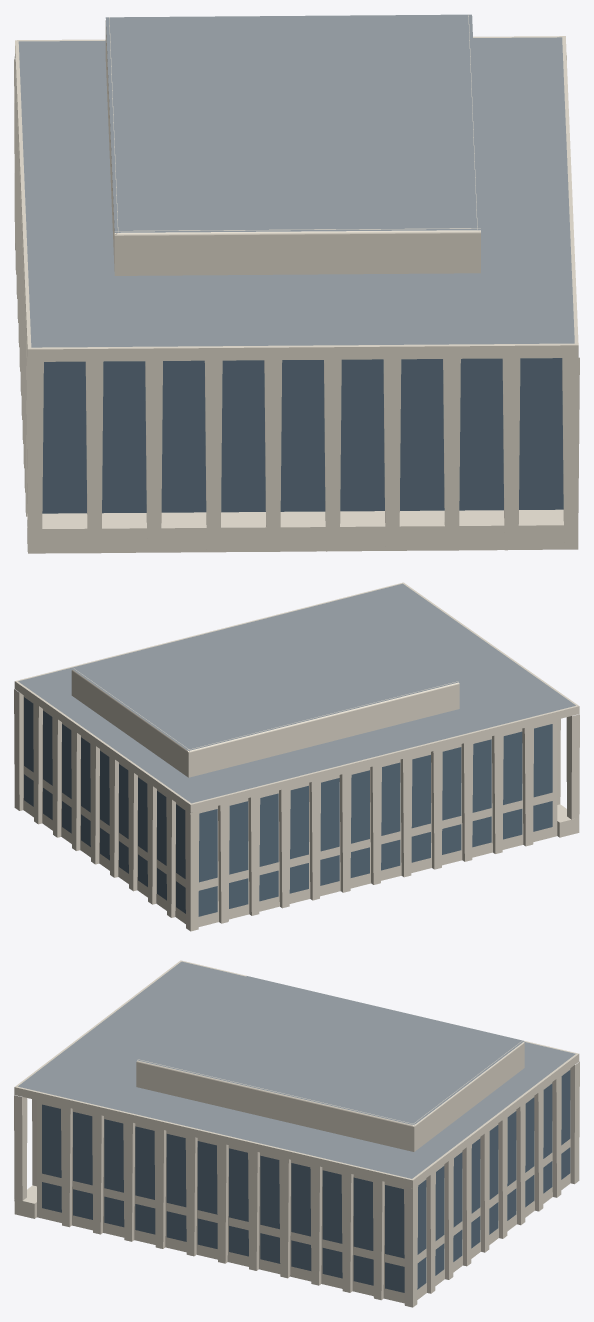
The picture shows the model from 3 angles, top to bottom: view 1: azimuth 30°, elevation 25°; view 2: azimuth 150°, elevation 25°; view 3: azimuth 270°, elevation 25°; orthographic projection. The views are drawn at different scales.
Parts seen in each view (by area): view 1: david-geffen-hall; view 2: david-geffen-hall; view 3: david-geffen-hall.
Boxes of the visible parts, bbox=[...] form: david-geffen-hall: bbox=[14, 14, 579, 553]; david-geffen-hall: bbox=[14, 582, 579, 931]; david-geffen-hall: bbox=[14, 960, 579, 1307].
Bounding box in the file's own units: 90.47 × 29.5 × 98.01.
